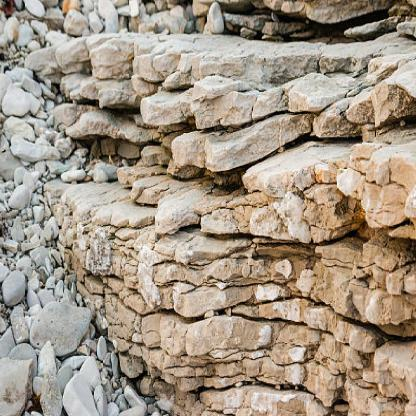Sedimentary_Limestone: (248, 142, 344, 194), (372, 63, 414, 138), (35, 337, 66, 415), (359, 149, 410, 195), (286, 78, 348, 112), (83, 36, 138, 74), (155, 191, 207, 230), (69, 361, 102, 413), (1, 361, 31, 415), (1, 81, 41, 120), (136, 91, 184, 121), (194, 76, 250, 100), (0, 272, 30, 314)
